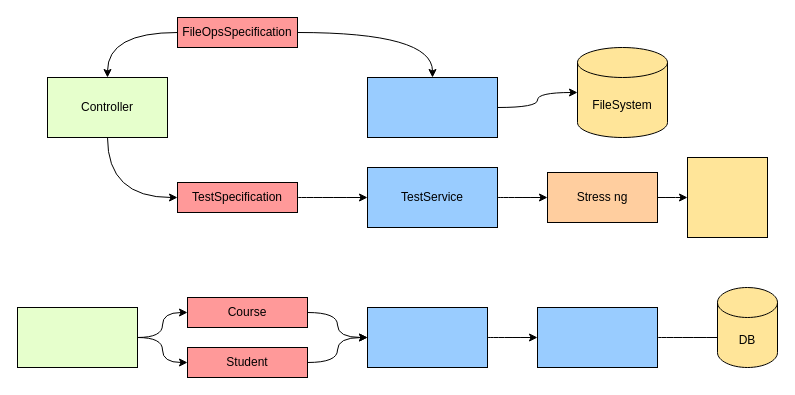
Image size: 795x395. Some labels were removed from this diagram. Here are the shapes that lost their labels. From the top down, the centre of each, then its label:
At point (432, 107): "FileOperationsService".
At point (727, 197): "CPU Memory".
At point (77, 337): "Transactional Controller".
At point (427, 337): "SchoolService".
At point (597, 337): "Repository".
